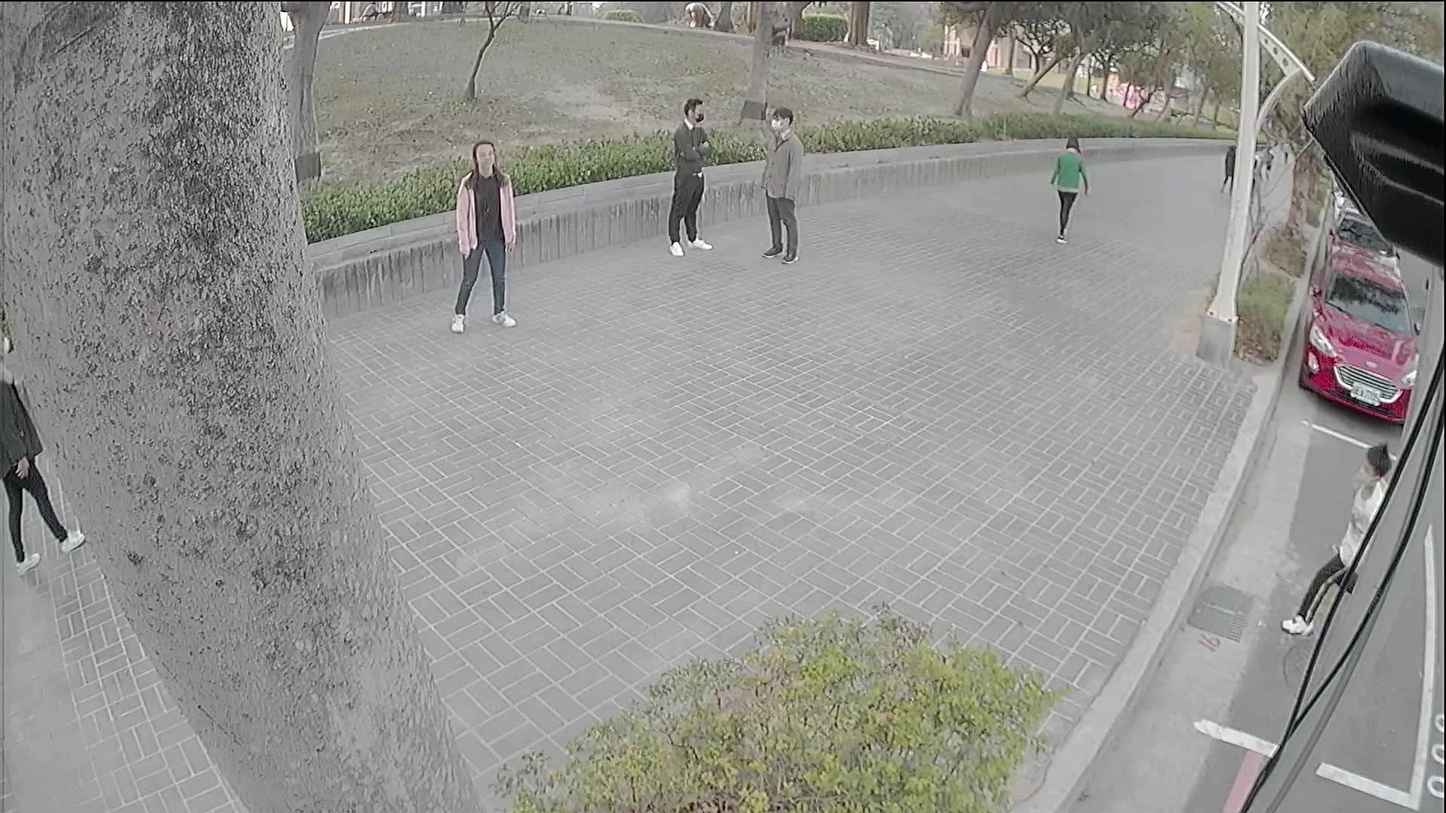person: (1282, 440, 1391, 635), (0, 336, 83, 567), (456, 138, 516, 329), (758, 105, 802, 259), (670, 96, 709, 257), (1048, 134, 1086, 242), (1217, 142, 1234, 190)
